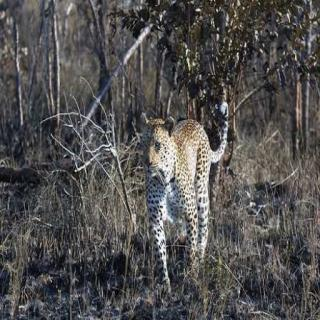Leopard: (121, 78, 271, 294)
